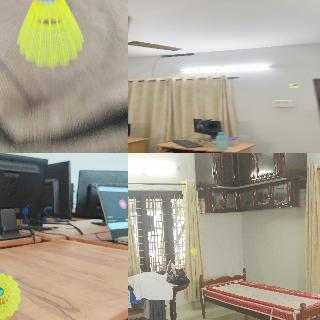shuttlecock: (17, 0, 86, 68), (0, 272, 22, 319), (190, 248, 197, 258), (288, 83, 299, 88)
